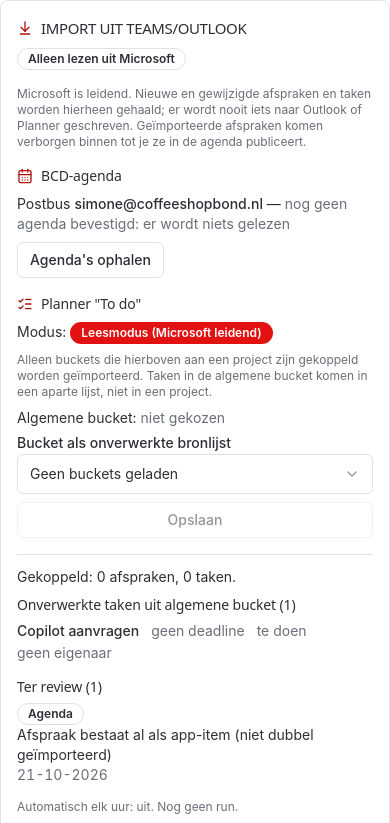
Test: MsImportPanel › biedt alleen de vastgezette BCD-agenda aan
The image size is (390, 823).
Click the button "Agenda's ophalen".
click(90, 260)  # box x1=17 y1=242 x2=164 y2=278
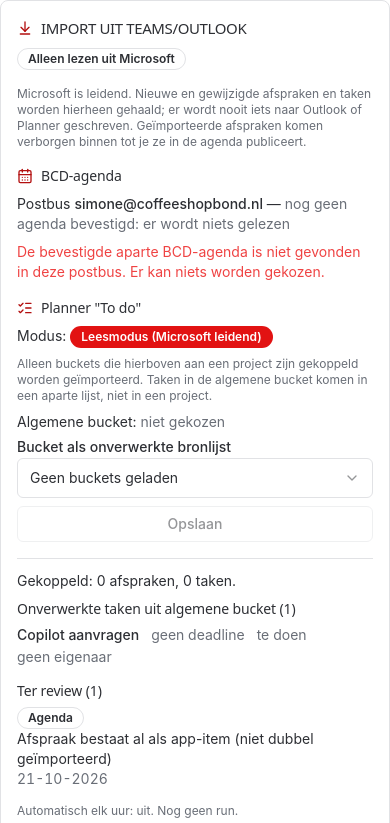
Expected: the text "niet gevonden in deze postbus" is shown, x1=17 y1=242 x2=360 y2=280
